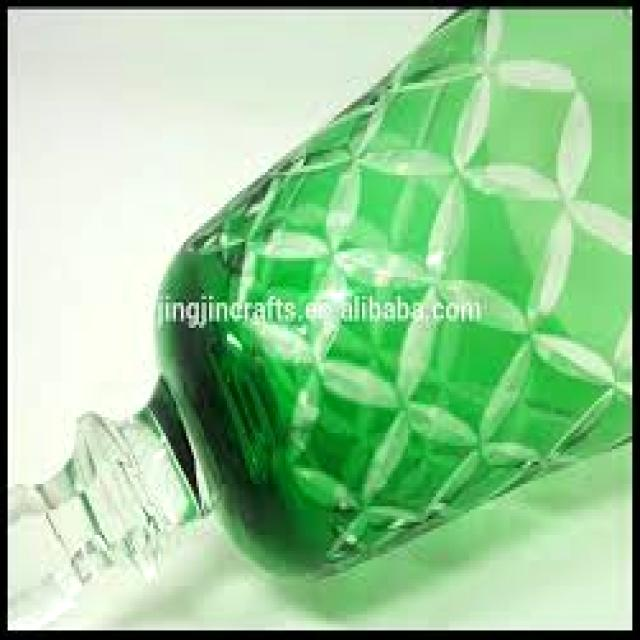Glass: (5, 2, 634, 626)
